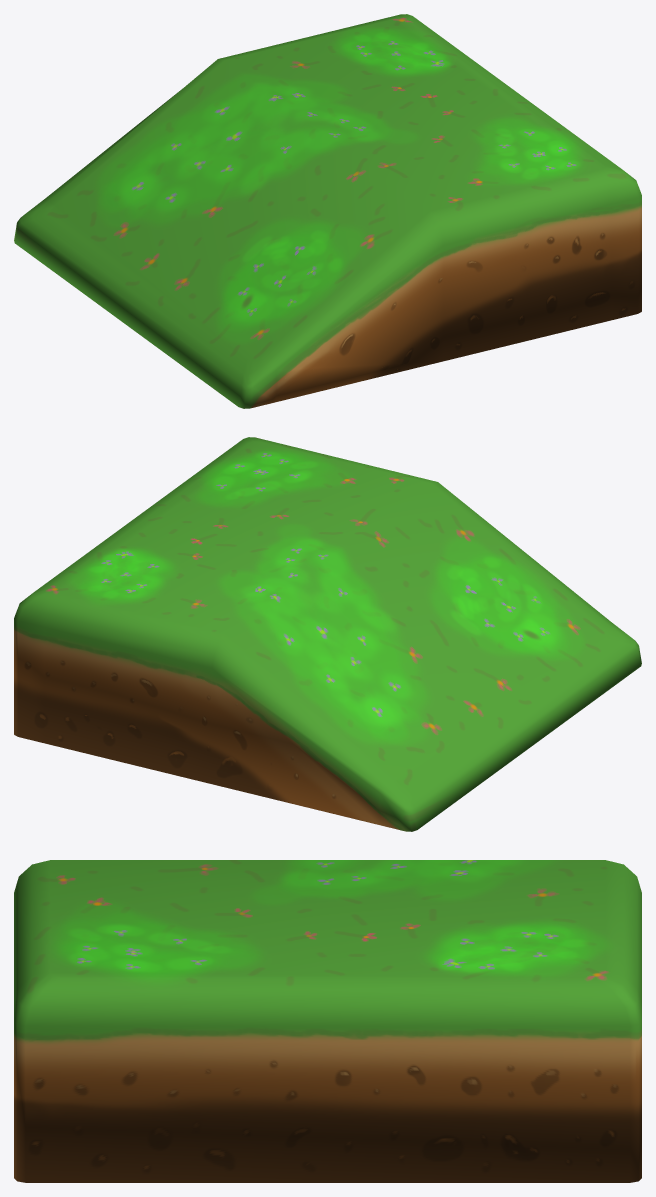
Rendered from PlatformGrassRamp.fbx.
3 views of the same model, one above another, from view 1: azimuth 30°, elevation 25°; view 2: azimuth 150°, elevation 25°; view 3: azimuth 270°, elevation 25° (orthographic). The views are drawn at different scales.
Visible parts, largest first — view 1: PlatformGrassRamp; view 2: PlatformGrassRamp; view 3: PlatformGrassRamp.
Part boxes in pixels (box(x1,y1,x2,y2)): PlatformGrassRamp: box(14, 14, 641, 408); PlatformGrassRamp: box(14, 437, 641, 831); PlatformGrassRamp: box(14, 860, 641, 1182).
Size of what is drawn, in the model's own units: 6 by 2 by 6.
